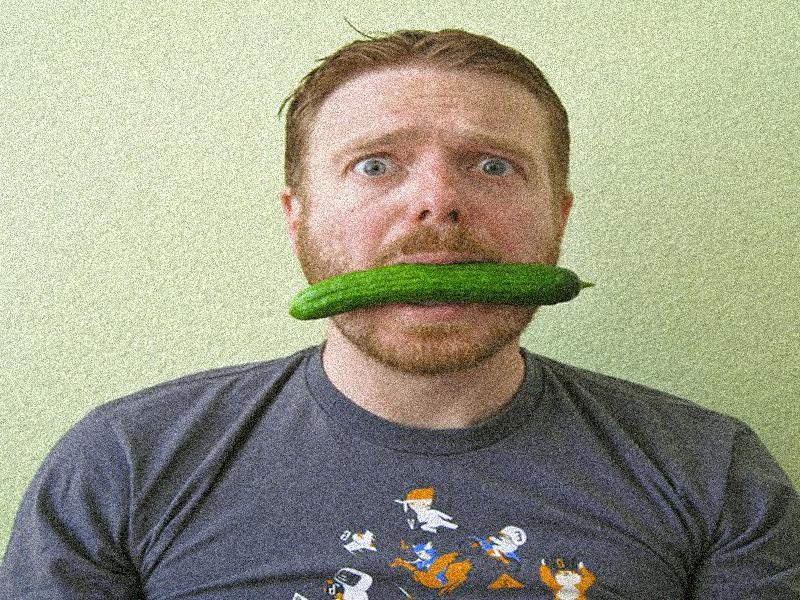Cucumber: (285, 263, 594, 320)
